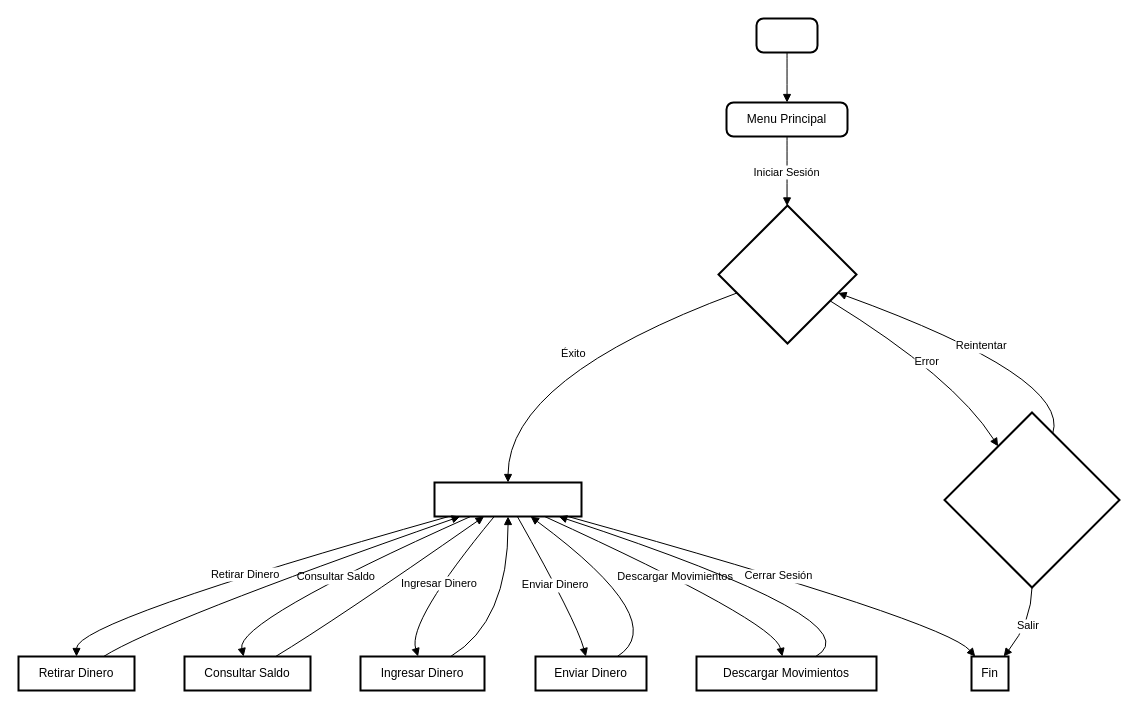
Image size: 1137x708. Some labels were removed from this diagram. The shapes that lost their labels are listed below. From the top down, each one's box as (x1, y1, x2, y2) in pixels, then its label:
(755, 17, 818, 53): Iniciar
(717, 204, 857, 344): Inicio Sesión
(433, 481, 582, 517): Menu Operaciones
(943, 411, 1120, 588): Reintentar o Salir
